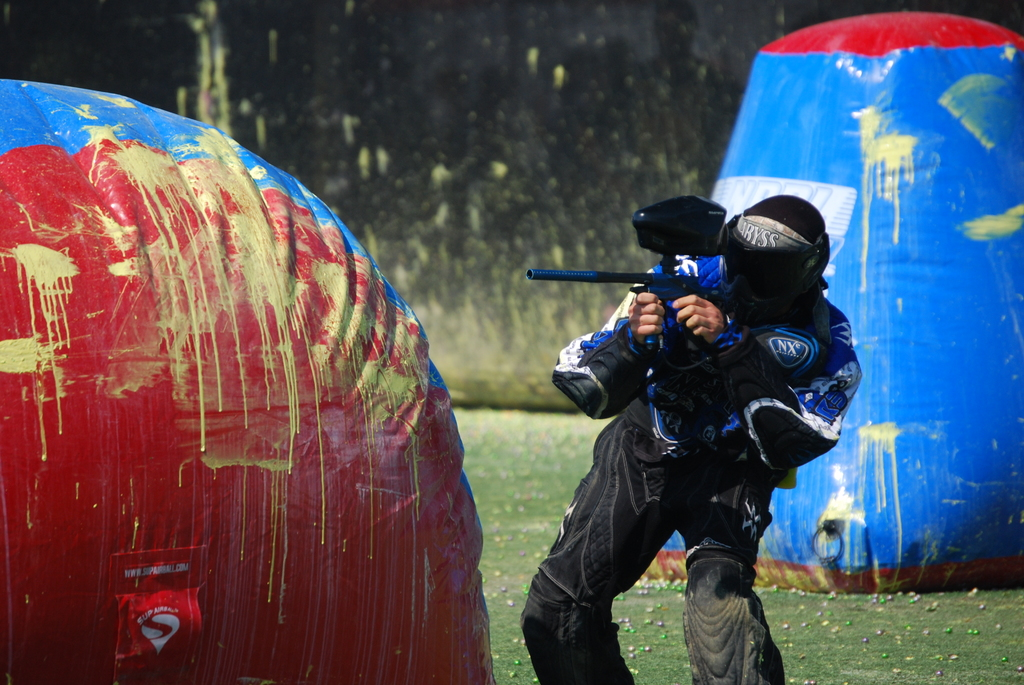Human_hand: (673, 295, 730, 342), (628, 294, 666, 345)
